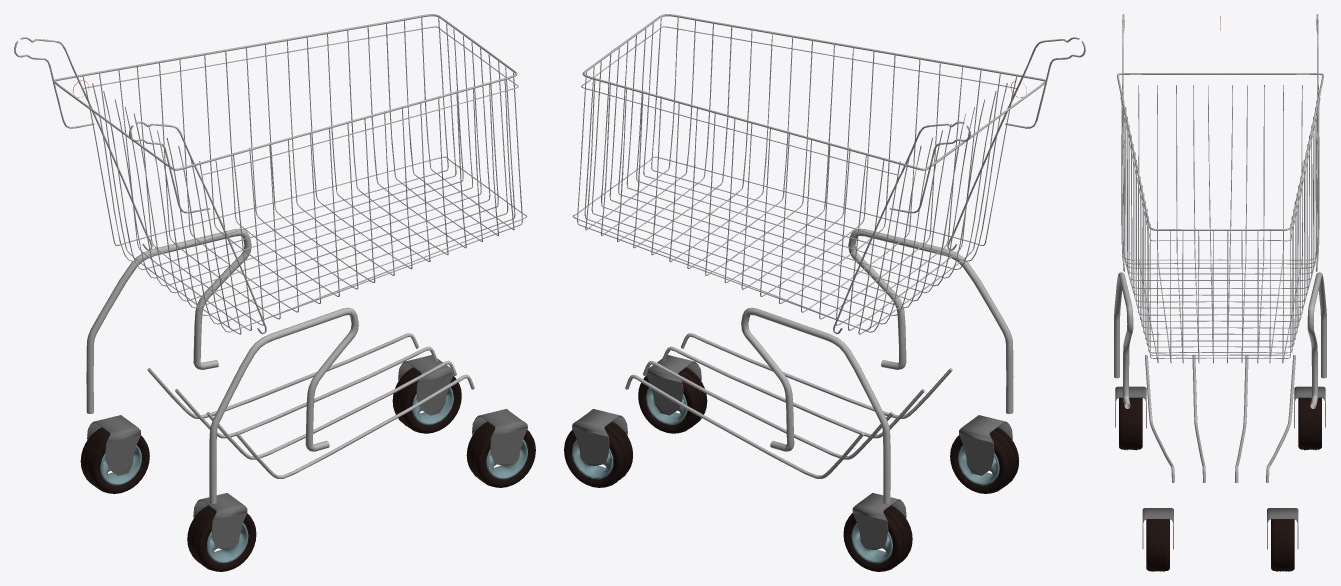
Rendered from o3_carrelli_spesa.glb.
3 renders of one model, left to right at view 1: azimuth 30°, elevation 25°; view 2: azimuth 150°, elevation 25°; view 3: azimuth 270°, elevation 25°, orthographic. The views are drawn at different scales.
Visible parts, largest first — view 1: sb_modello; view 2: sb_modello; view 3: sb_modello.
Part boxes in pixels (x1,y1,x2,y2): sb_modello: [14, 14, 535, 571]; sb_modello: [564, 14, 1085, 571]; sb_modello: [1114, 14, 1326, 571].
Size of the model in its own units: 0.9391 by 0.9999 by 0.4867.
